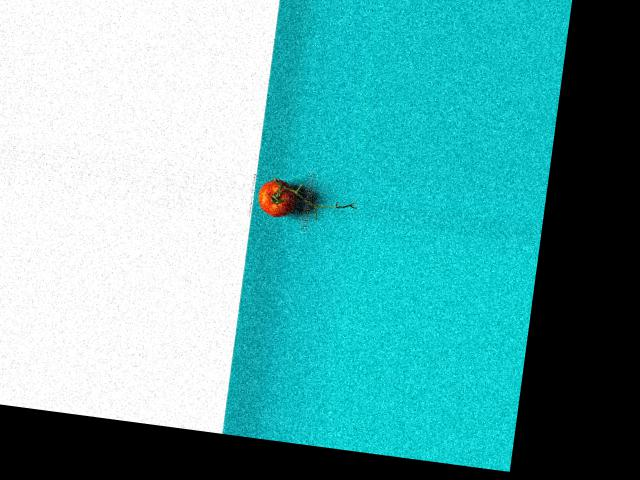tomato: (257, 176, 297, 218)
